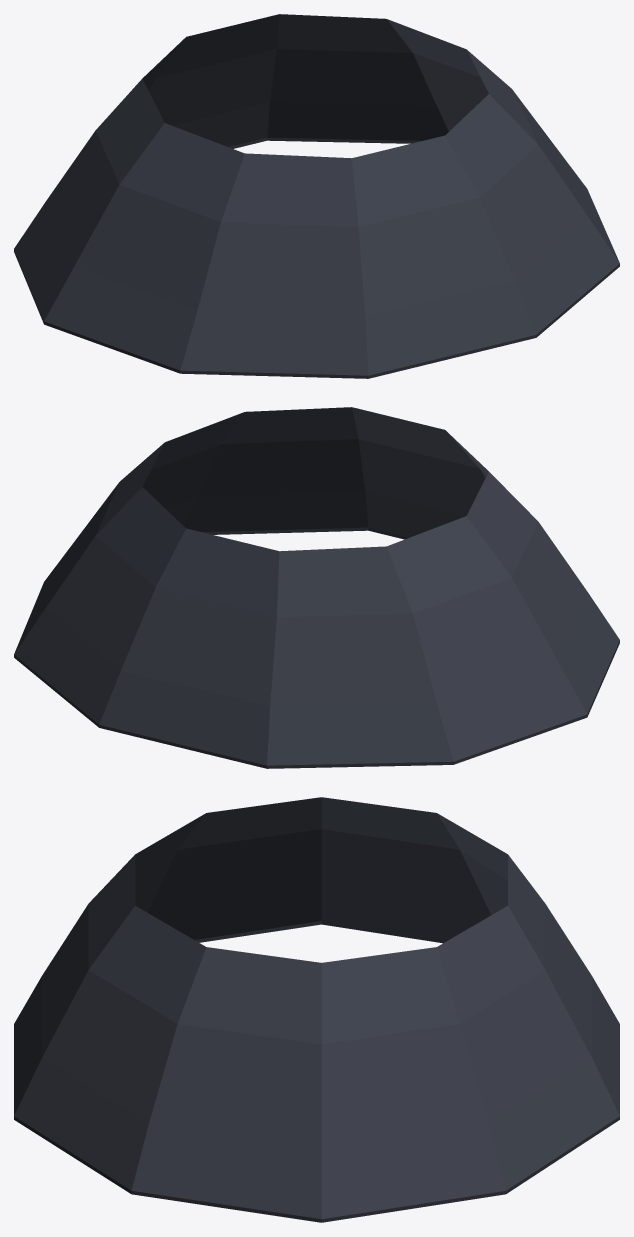
The model's file is jupe_longue.glb.
3 views of the same model, one above another, from view 1: azimuth 30°, elevation 25°; view 2: azimuth 150°, elevation 25°; view 3: azimuth 270°, elevation 25° (orthographic). The views are drawn at different scales.
Parts seen in each view (by area): view 1: jupe_longue; view 2: jupe_longue; view 3: jupe_longue.
Boxes of the visible parts, bbox=[...] form: jupe_longue: bbox=[14, 14, 619, 378]; jupe_longue: bbox=[14, 407, 619, 768]; jupe_longue: bbox=[14, 797, 619, 1222].
Bounding box in the file's own units: 3.6 × 1.09 × 3.09.
Materials: 1 (1 with a texture image).
